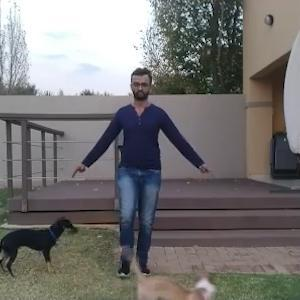land: (84, 78, 210, 278)
